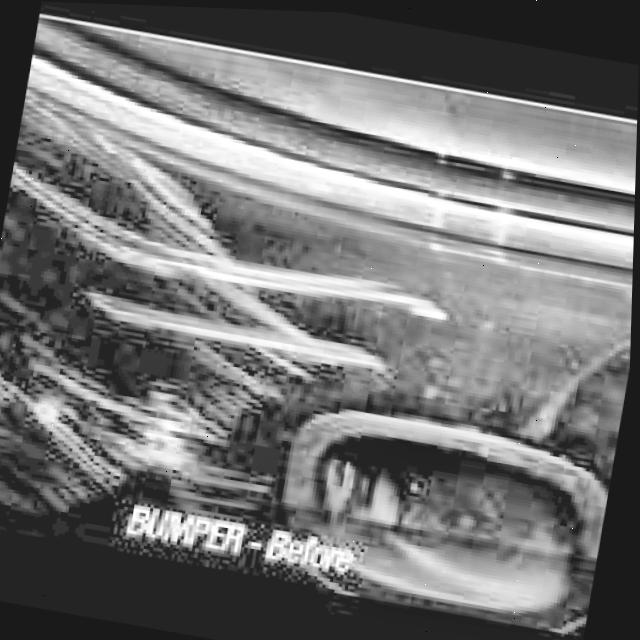bumper_scratch: (0, 78, 472, 536)
